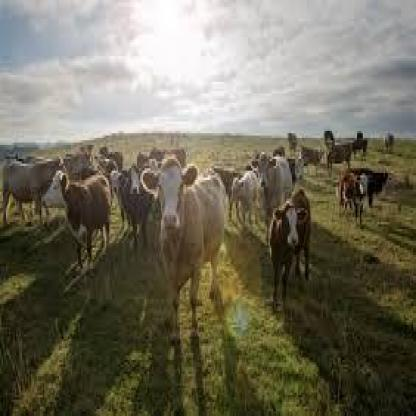cow: (143, 159, 227, 343), (43, 172, 110, 274), (268, 192, 312, 310), (2, 162, 64, 224), (251, 152, 292, 215), (122, 166, 145, 241), (339, 172, 369, 223), (326, 142, 353, 174), (301, 144, 326, 174)
